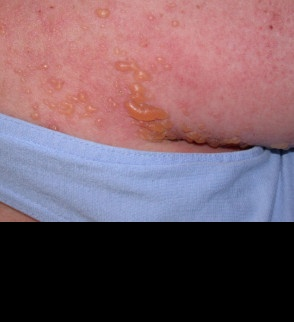SJS-TEN: (3, 0, 289, 165)
